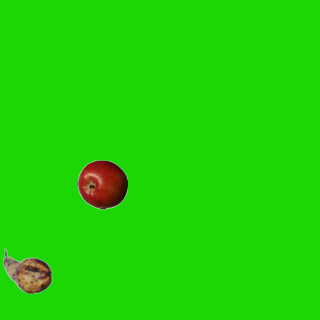Apple Braeburn: (77, 159, 127, 209)
Pear Abate: (2, 246, 52, 296)
